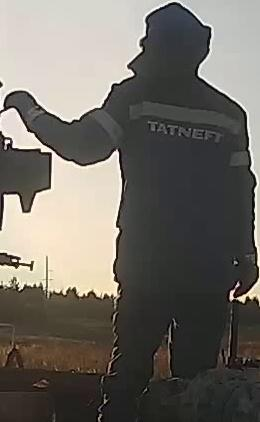gloves: (2, 89, 51, 132), (232, 239, 259, 301)
vest: (108, 80, 249, 262)
